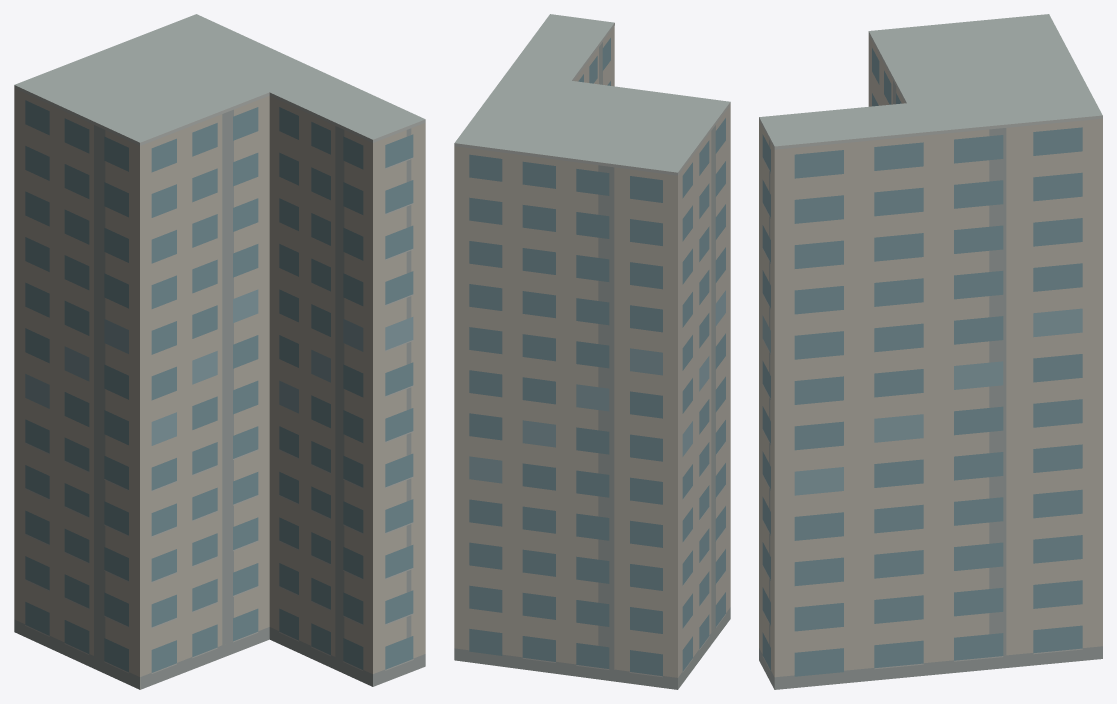
Rendered from residential-e55e2fbb-8026-40e4-b59e-35356c9b271f.glb.
3 renders of one model, left to right at view 1: azimuth 30°, elevation 25°; view 2: azimuth 150°, elevation 25°; view 3: azimuth 270°, elevation 25°, orthographic. The views are drawn at different scales.
Parts seen in each view (by area): view 1: residential-e55e2fbb-8026-40e4-b59e-35356c9b271f.tmp; view 2: residential-e55e2fbb-8026-40e4-b59e-35356c9b271f.tmp; view 3: residential-e55e2fbb-8026-40e4-b59e-35356c9b271f.tmp.
Boxes of the visible parts, x1=… form: residential-e55e2fbb-8026-40e4-b59e-35356c9b271f.tmp: x1=14, y1=14, x2=425, y2=689; residential-e55e2fbb-8026-40e4-b59e-35356c9b271f.tmp: x1=454, y1=14, x2=730, y2=689; residential-e55e2fbb-8026-40e4-b59e-35356c9b271f.tmp: x1=759, y1=14, x2=1102, y2=689.
Bounding box in the file's own units: 21.45 × 41 × 23.51.
